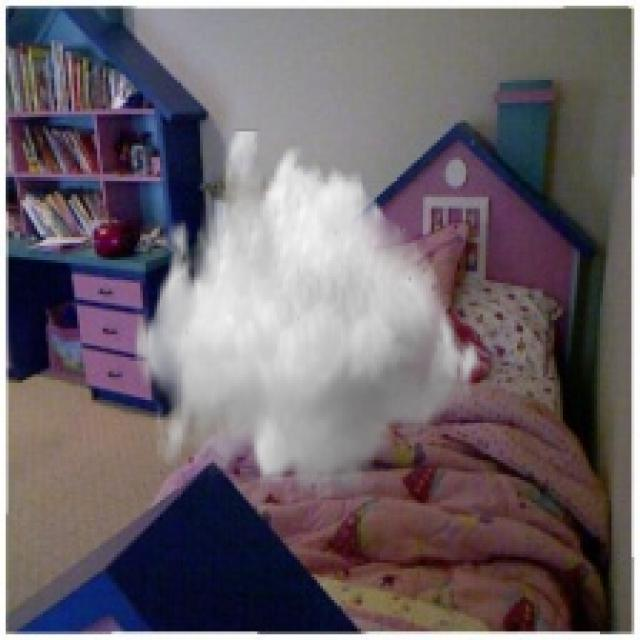Smoke: (134, 128, 489, 500)
